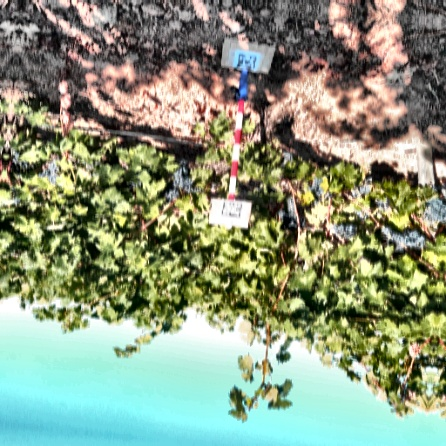QR: (236, 52, 258, 70), (221, 200, 243, 217)
